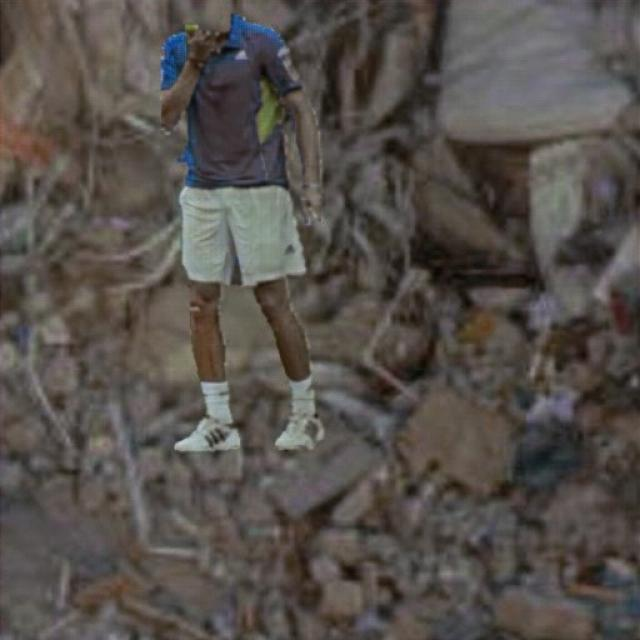Person in Rubble: (162, 14, 322, 450)
